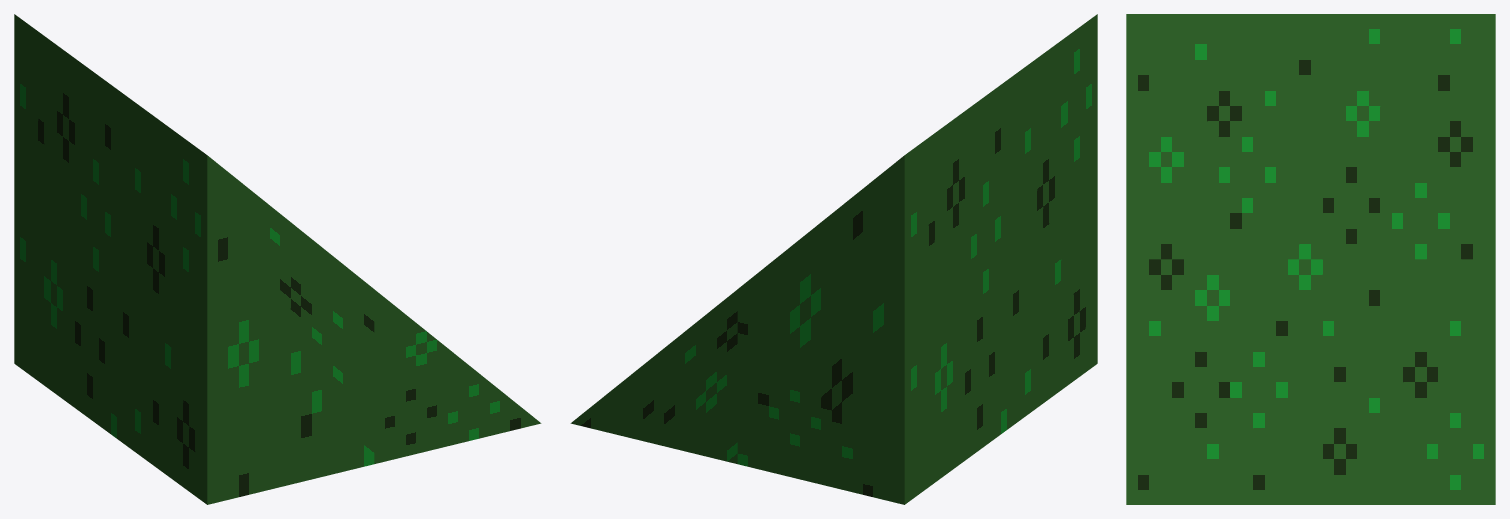
File: SlopeMid1.obj
3 views of the same model, side by side, from view 1: azimuth 30°, elevation 25°; view 2: azimuth 150°, elevation 25°; view 3: azimuth 270°, elevation 25° (orthographic). The views are drawn at different scales.
Visible parts, largest first — view 1: SlopeMid1_Cube.011; view 2: SlopeMid1_Cube.011; view 3: SlopeMid1_Cube.011.
Part boxes in pixels (left/top/right/bottom): SlopeMid1_Cube.011: left=14, top=14, right=541, bottom=504; SlopeMid1_Cube.011: left=570, top=14, right=1097, bottom=504; SlopeMid1_Cube.011: left=1126, top=14, right=1495, bottom=504.
Bounding box in the file's own units: 1 × 1 × 1.
1 material, 1 textured.
